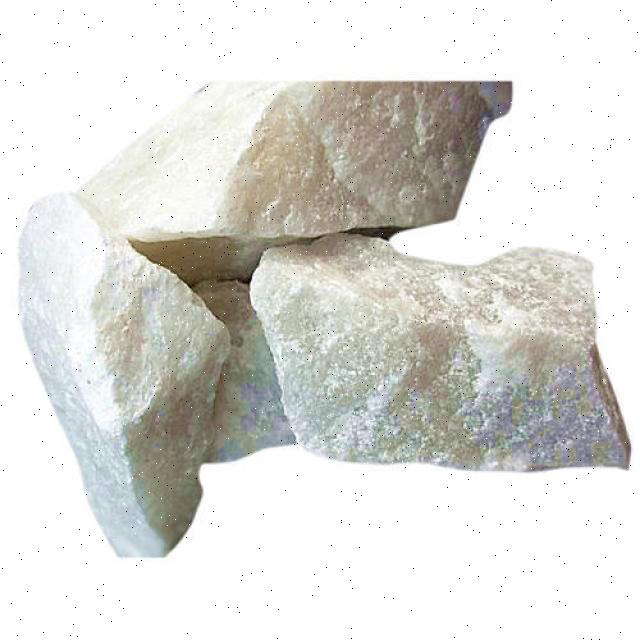Sedimentary: (13, 76, 640, 542)
